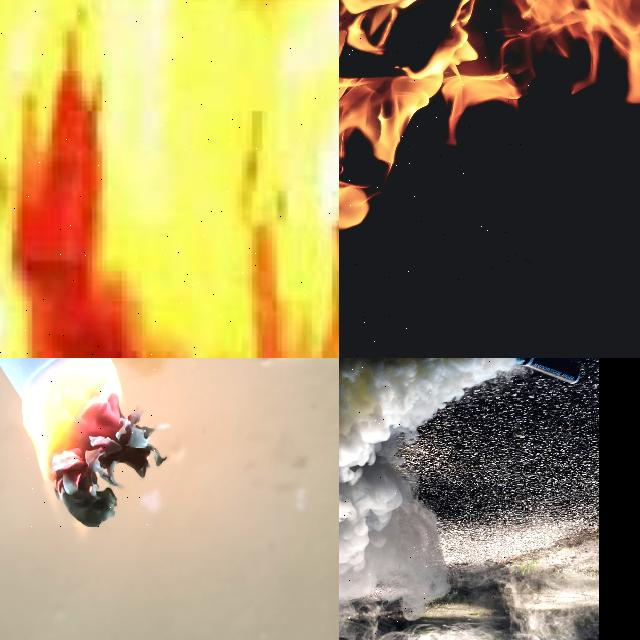fire: (0, 0, 339, 358), (339, 0, 531, 220), (24, 358, 164, 527)
smoke: (339, 358, 518, 617)
